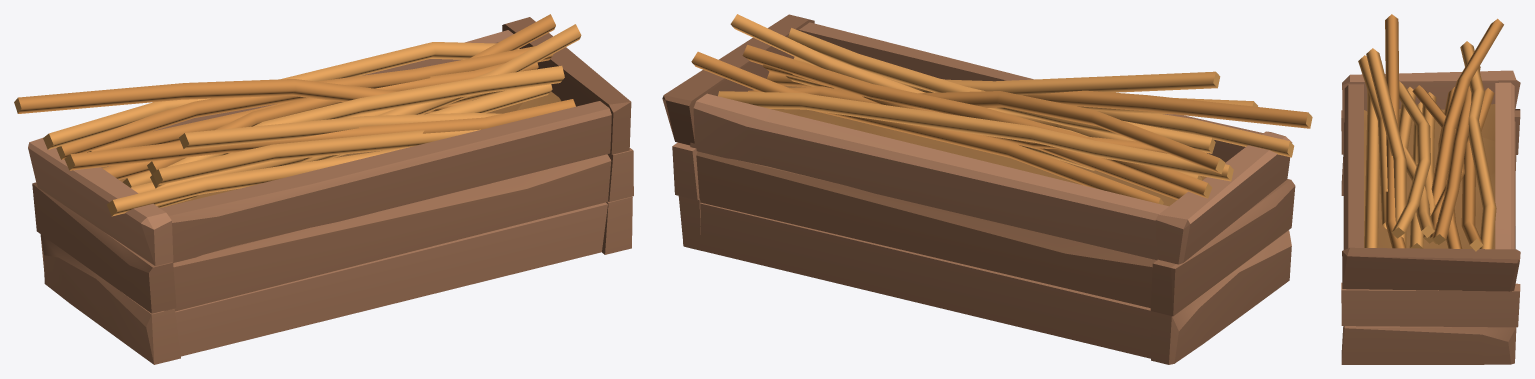
Rendered from Manger_A.fbx.
3 renders of one model, left to right at view 1: azimuth 30°, elevation 25°; view 2: azimuth 150°, elevation 25°; view 3: azimuth 270°, elevation 25°, orthographic. The views are drawn at different scales.
Parts seen in each view (by area): view 1: Manger_A; view 2: Manger_A; view 3: Manger_A.
Part boxes in pixels (x1,y1,x2,y2): Manger_A: (14, 14, 633, 364); Manger_A: (662, 14, 1312, 364); Manger_A: (1341, 14, 1520, 364).
Size of the model in its own units: 177 by 63.46 by 65.68.
